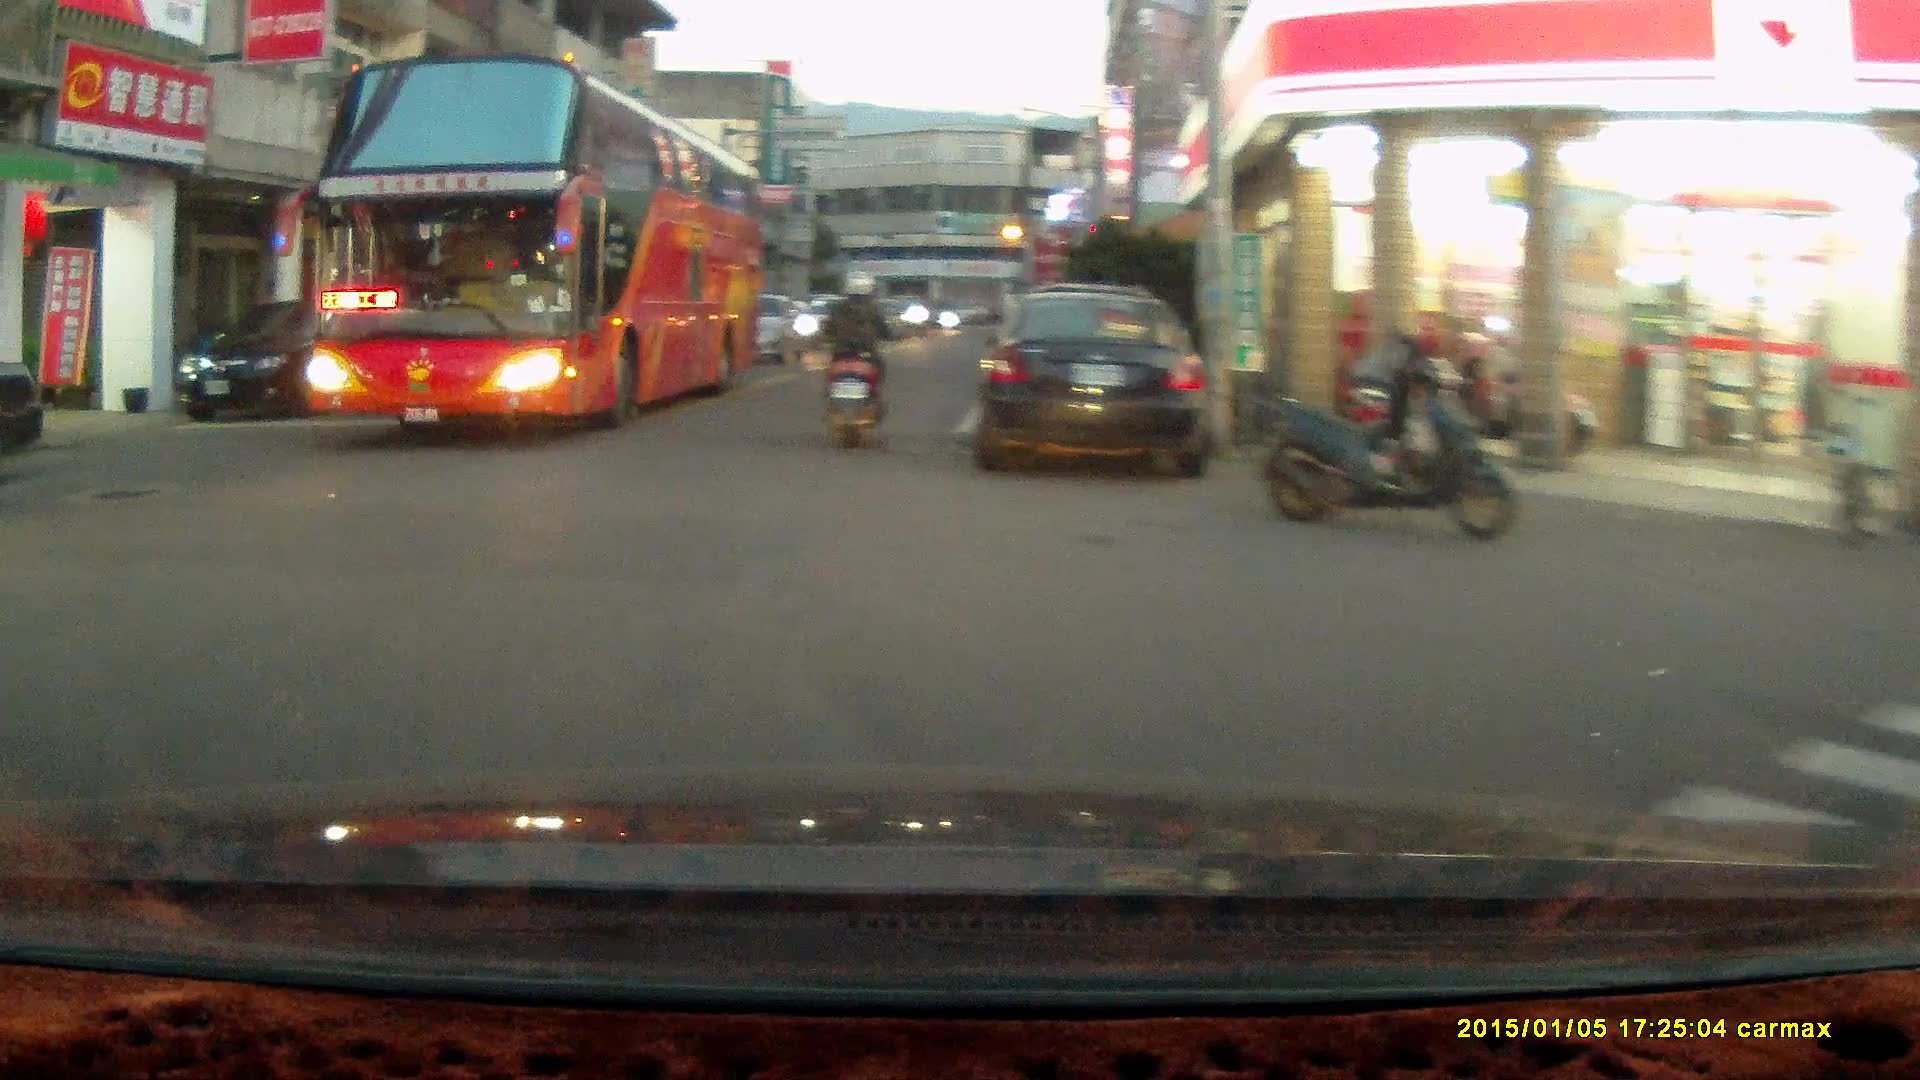rider: (813, 265, 894, 451)
vehicle: (300, 56, 773, 437), (970, 286, 1221, 476), (178, 304, 378, 419)
